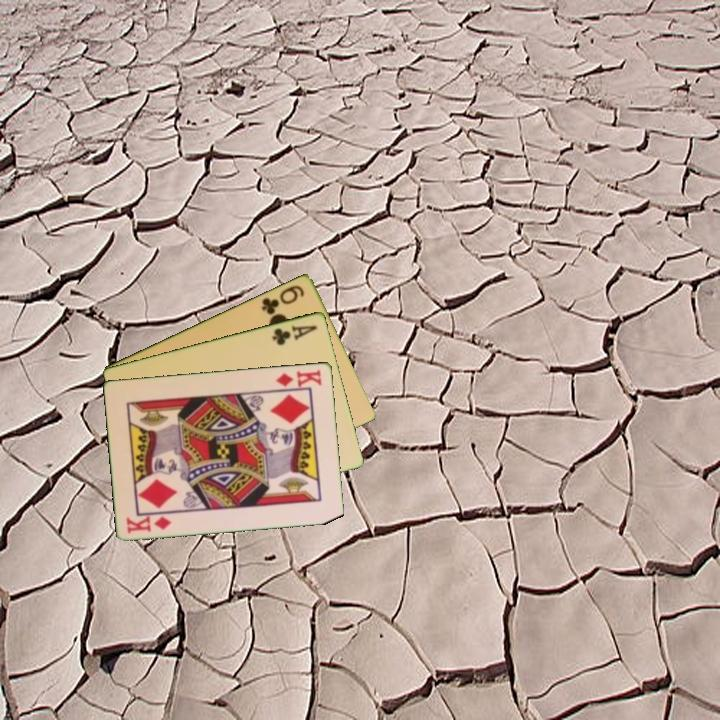6c: (257, 281, 307, 317)
Ac: (269, 321, 320, 348)
Kd: (271, 366, 324, 392), (123, 512, 175, 536)
